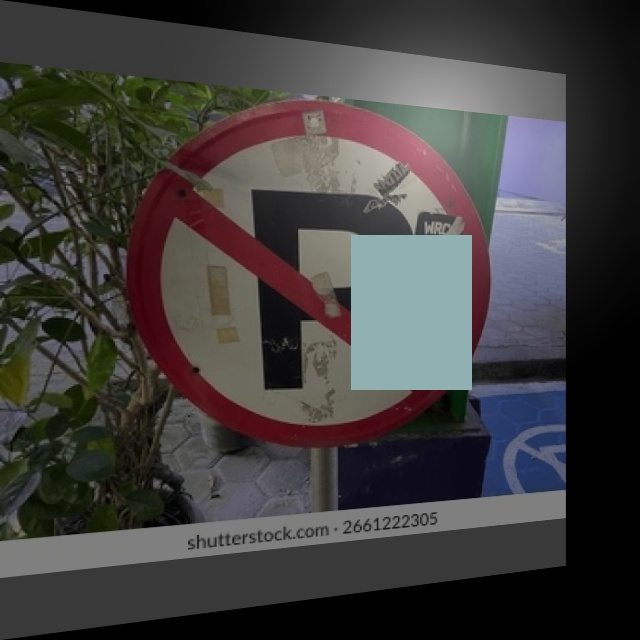No_Parking: (131, 81, 484, 445)
